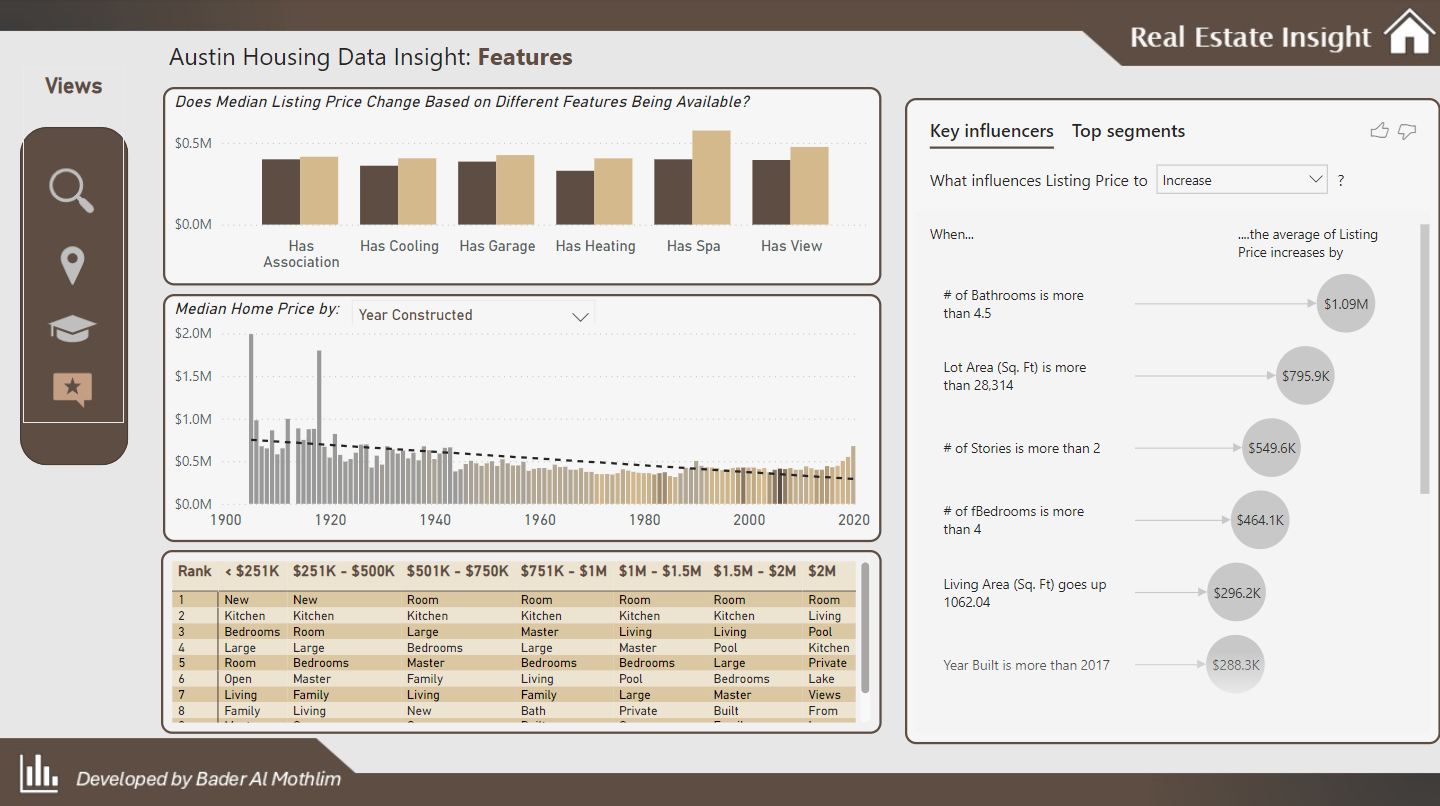

This screenshot's page, from the dashboard's own definition file:
{"tool":"powerbi","page":{"name":"Features","canvas":[1280,720],"ordinal":4},"visuals":[{"type":"clusteredColumnChart","fields":{"Category":["Housing_fact.yearBuilt"],"Y":["_measures.Median Home Price"]},"box":[36.7,293.3,573.3,254.4],"z":0},{"type":"clusteredColumnChart","title":"Does Median Listing Price Change Based on Different Features Being Available?","fields":{"Y":["_measures.Median Home Price"],"Category":["features_pivot.Attribute"],"Series":["features_pivot.Value"]},"box":[82.2,58.9,592.2,222.2],"z":1000},{"type":"slicer","fields":{"Values":["Parameter.Parameter"]},"box":[405.6,281.1,234.4,65.6],"z":2000},{"type":"pivotTable","fields":{"Rows":["z_word_rank.Rank"],"Values":["_measures.Word Find"],"Columns":["Housing_fact.latest price group"]},"box":[37,547,637,173],"z":3000},{"type":"keyDriversVisual","fields":{"Target":["Housing_fact.latestPrice"],"ExplainBy":["Sum(Housing_fact.yearBuilt)","Sum(Housing_fact.livingAreaSqFt)","Sum(Housing_fact.lotSizeSqFt)","house.garageSpaces","house.numOfAccessibilityFeatures","house.numOfAppliances","house.numOfBathrooms","house.numOfBedrooms","house.numOfCommunityFeatures","house.numOfParkingFeatures","house.numOfPatioAndPorchFeatures","house.numOfSecurityFeatures"]},"box":[696,59,496,639],"z":4000}]}

Visuals, with their boxes in screenshot pixels (x1, y1, x2, y2), scaled from the page's 1280x720 canvas onto the 1440x806 screenshot:
clusteredColumnChart - Housing_fact.yearBuilt x _measures.Median Home Price: (41, 328, 686, 613)
"Does Median Listing Price Change Based on Different Features Being Available?" clusteredColumnChart: (92, 66, 759, 315)
slicer - Parameter.Parameter: (456, 315, 720, 388)
pivotTable - z_word_rank.Rank x _measures.Word Find: (42, 612, 758, 805)
keyDriversVisual - Housing_fact.latestPrice x Sum(Housing_fact.yearBuilt): (783, 66, 1341, 781)
